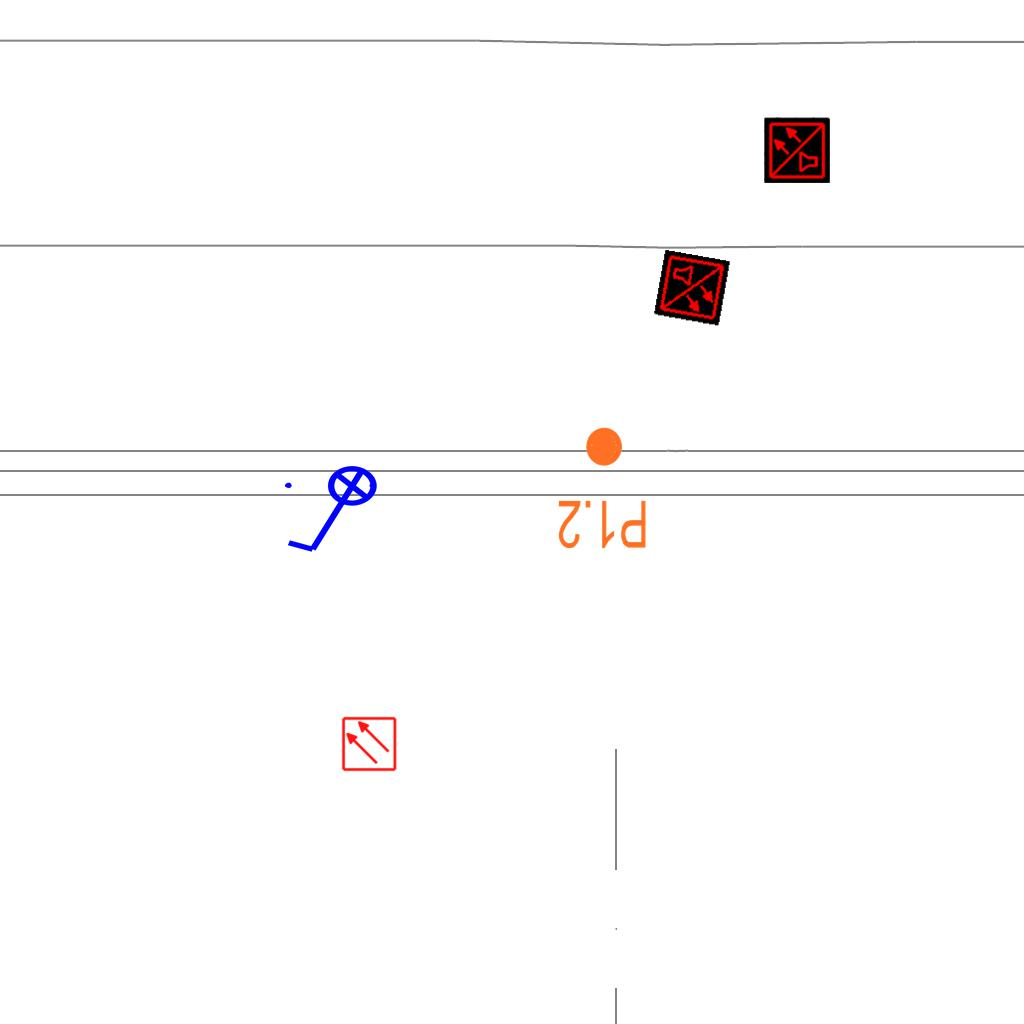Ausschalter_beleuchtet: (279, 464, 391, 560)
Downlight_LED_Einbauleuchten_Flur: (556, 424, 649, 552)
OKW_Multisensormelder_(Kombination_optischer_Rauch-Kahlenmonoxid_Waerme-Melder): (653, 249, 731, 327), (764, 117, 830, 183)
RMO_Rauchmelder_optischer: (341, 716, 397, 772)
